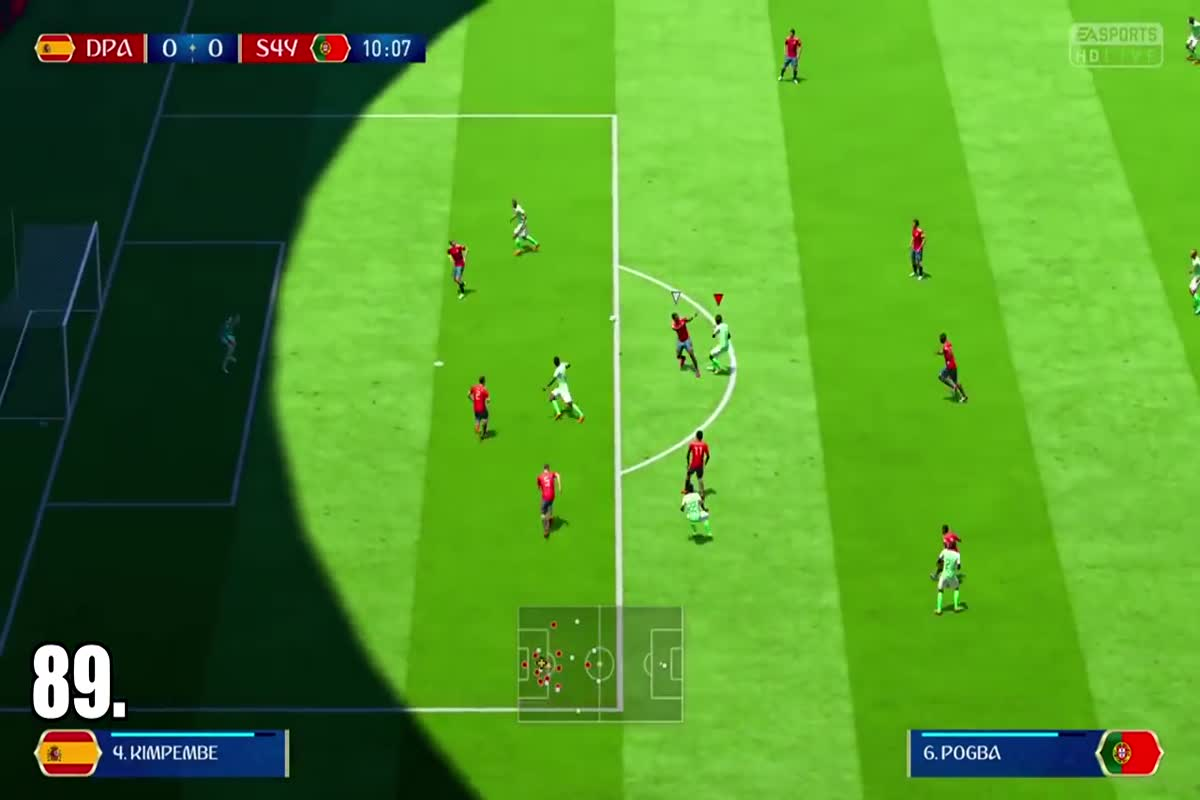ball: (602, 312, 624, 329)
